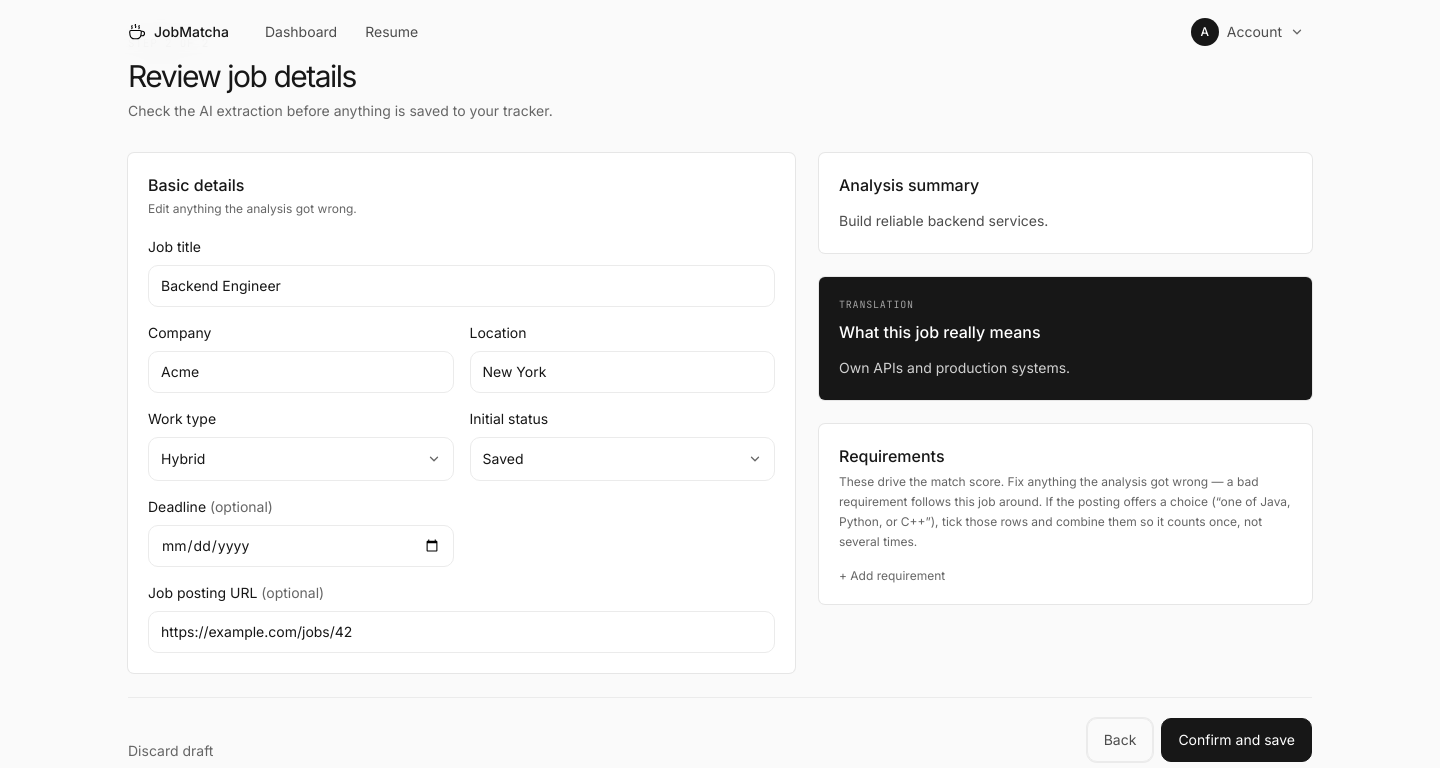
it: JobReviewPage › shows confirmation errors beside the confirmation button
(page scrolled)
Step 1. Click the button "Confirm and save" → click(1237, 740), box [1161, 718, 1312, 762]
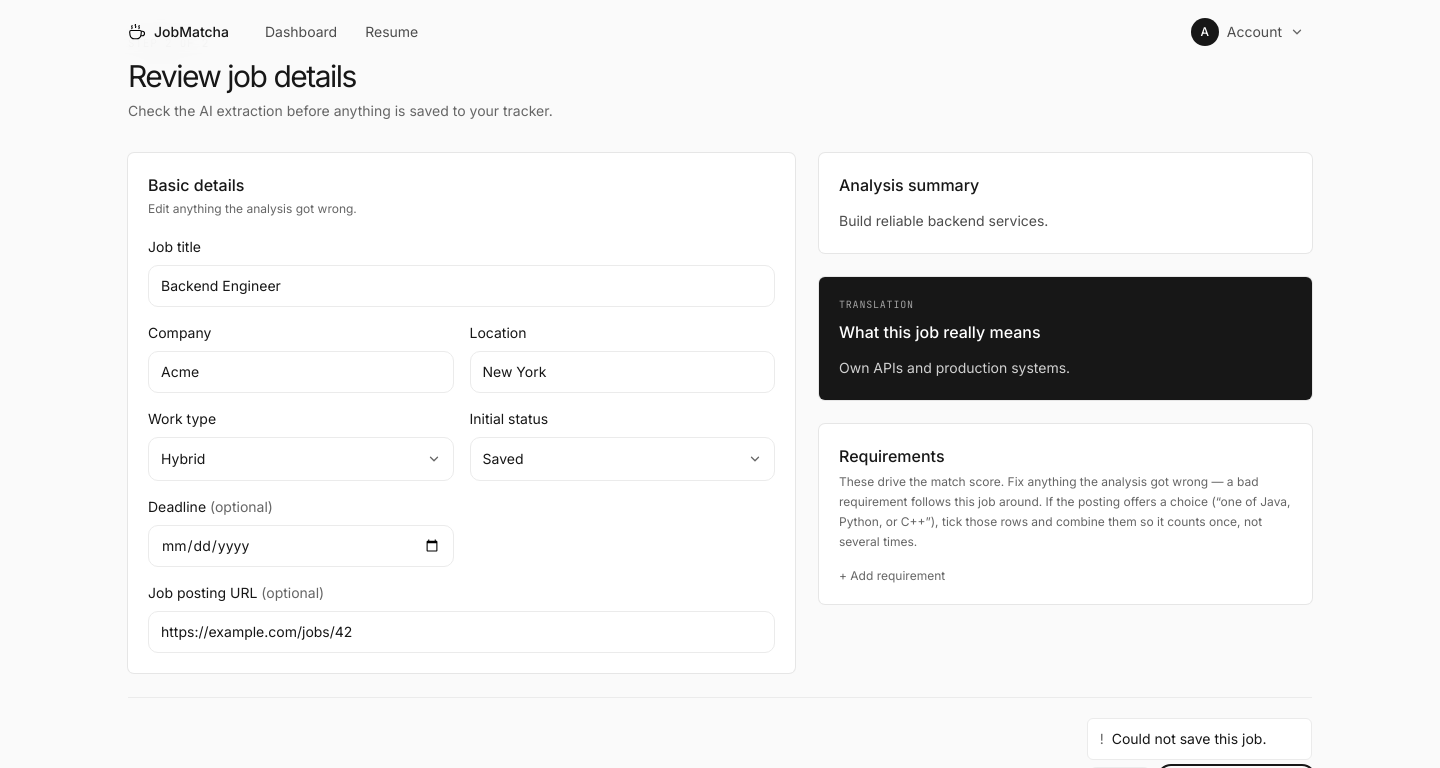
Expected: the text "Could not save this job." is shown, [1112, 730, 1266, 746]
